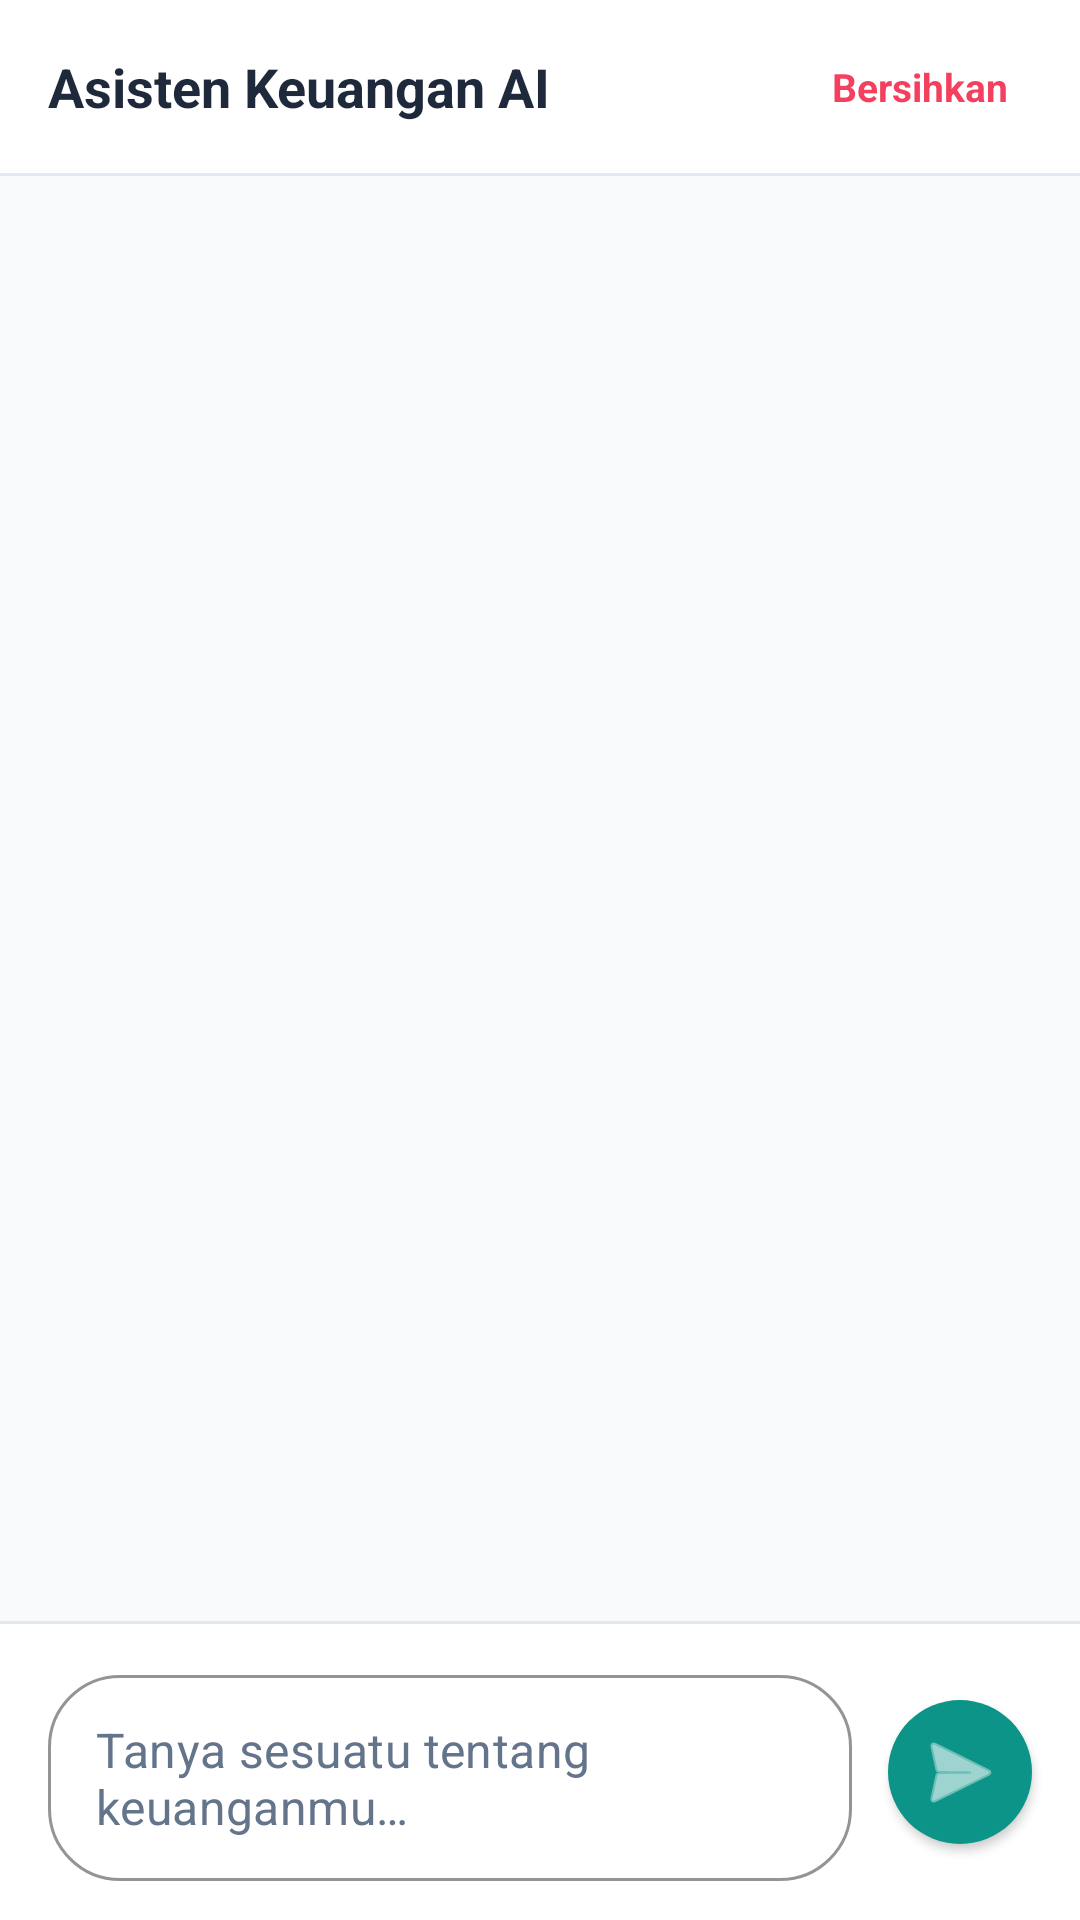

Where to tap for icons on this 1080*1920 app screen, as point (x, y):
send: point (960, 1772)
